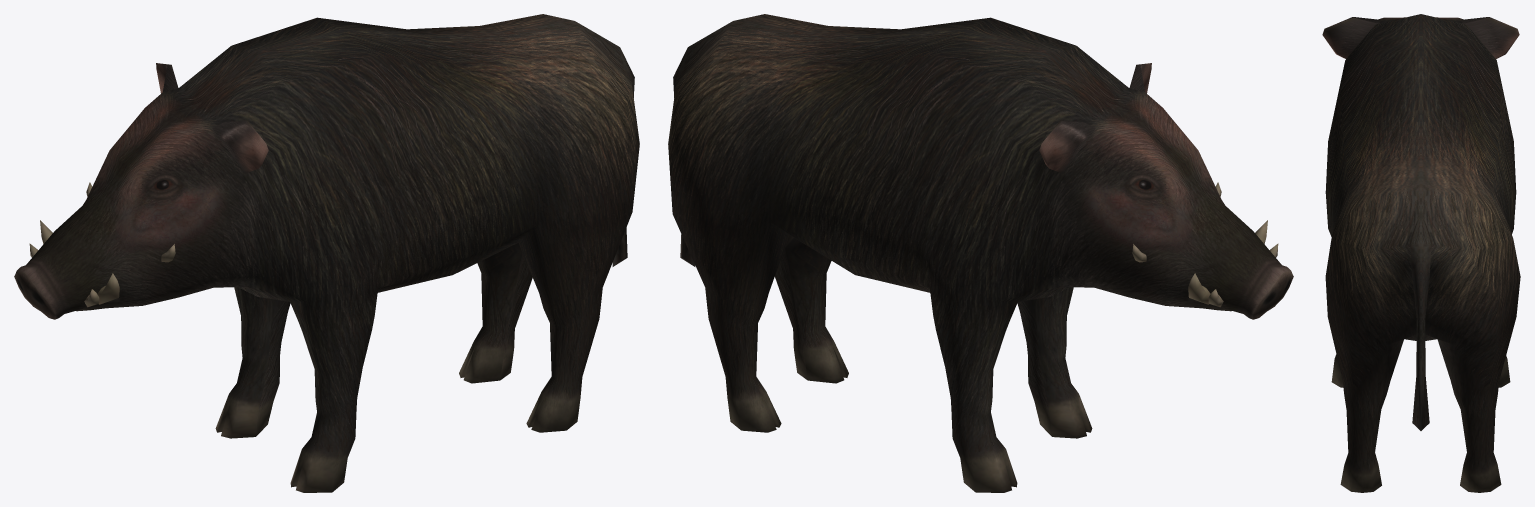
Rendered from boar.gltf.
The picture shows the model from 3 angles, left to right: view 1: azimuth 30°, elevation 25°; view 2: azimuth 150°, elevation 25°; view 3: azimuth 270°, elevation 25°; orthographic projection. The views are drawn at different scales.
Parts seen in each view (by area): view 1: boarS; view 2: boarS; view 3: boarS.
Boxes of the visible parts, bbox=[...] form: boarS: bbox=[14, 14, 639, 492]; boarS: bbox=[668, 14, 1293, 492]; boarS: bbox=[1322, 14, 1520, 492].
Bounding box in the file's own units: 16.84 × 10.85 × 5.4.
Materials: 1 (1 with a texture image).
